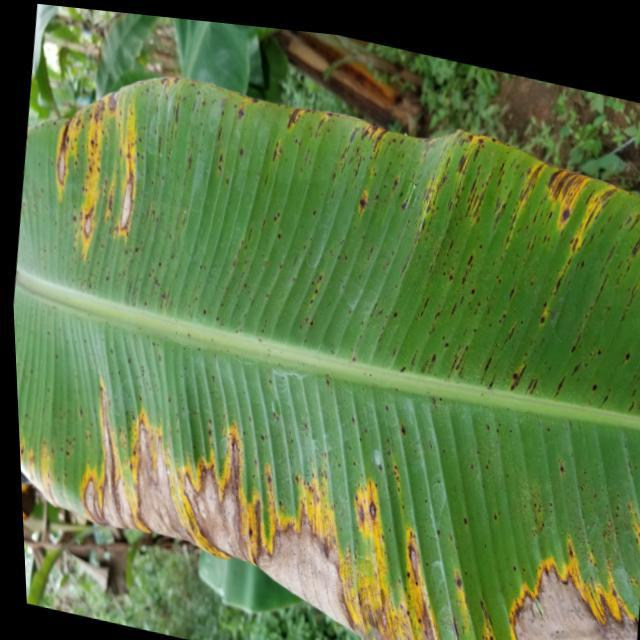Early_rust: (0, 332, 640, 640), (33, 80, 640, 394)
